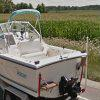Boat: (2, 12, 85, 96)
